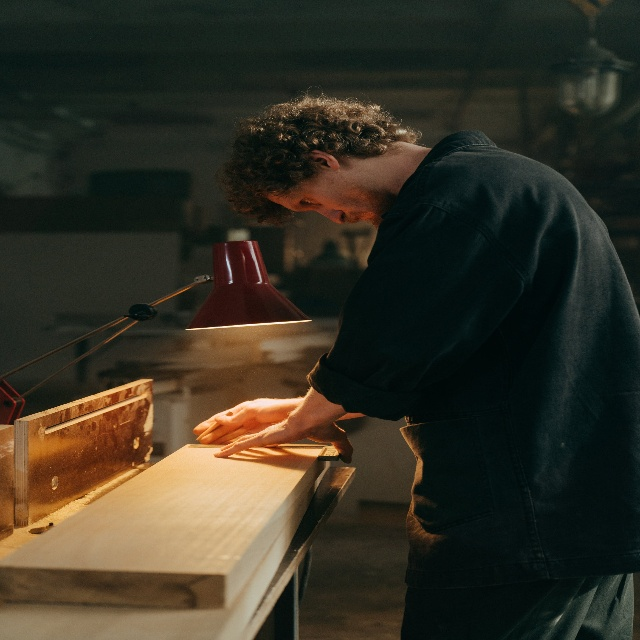Sin_guantes: (213, 406, 354, 464), (192, 387, 300, 443)
